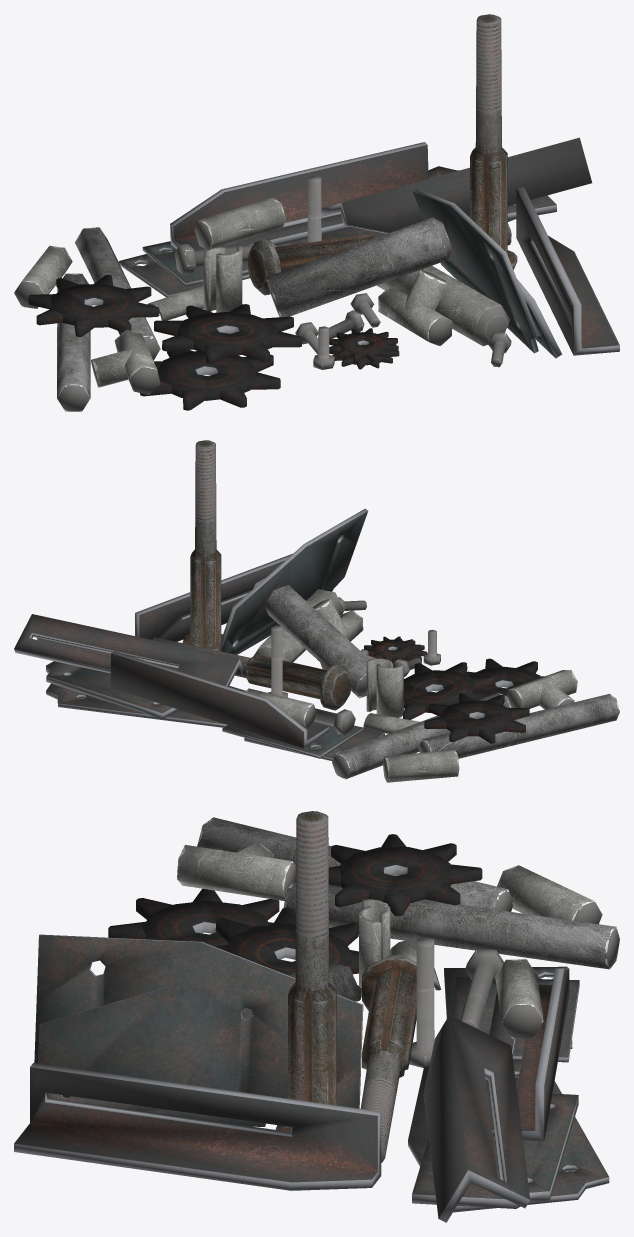
Rendered from scrap_metal_lowpoly.obj.
3 renders of one model, top to bottom at view 1: azimuth 30°, elevation 25°; view 2: azimuth 150°, elevation 25°; view 3: azimuth 270°, elevation 25°, orthographic. The views are drawn at different scales.
Visible parts, largest first — view 1: obj1; view 2: obj1; view 3: obj1.
Boxes of the visible parts, box(x1,y1,x2,y2) form: obj1: box(14, 14, 619, 411); obj1: box(14, 440, 619, 782); obj1: box(14, 811, 619, 1222).
Size of the model in its own units: 2 by 0.7742 by 1.31.
Materials: 1 (1 with a texture image).
